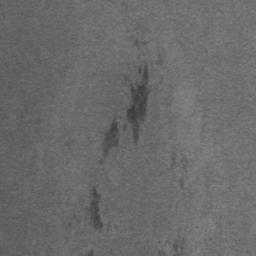Iron scale compression: (127, 65, 153, 149), (84, 188, 105, 232), (100, 117, 119, 165)
